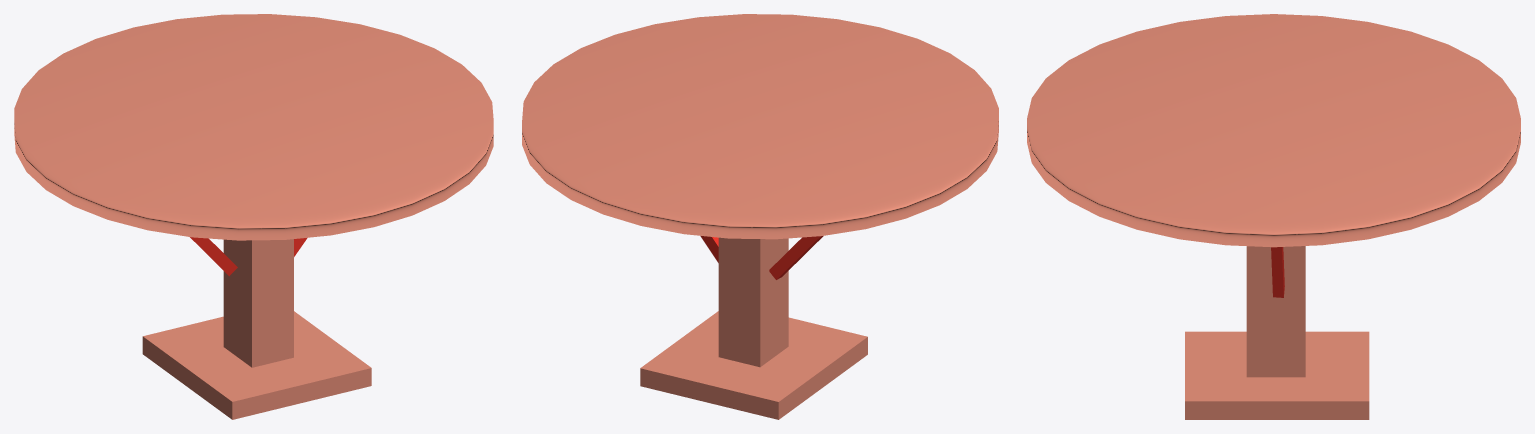
File: mesa.glb
3 renders of one model, left to right at view 1: azimuth 30°, elevation 25°; view 2: azimuth 150°, elevation 25°; view 3: azimuth 270°, elevation 25°, orthographic. The views are drawn at different scales.
Visible parts, largest first — view 1: Cilindro, Cubo.001, Cubo, Cubo.002; view 2: Cilindro, Cubo.001, Cubo, Cubo.002; view 3: Cilindro, Cubo.001, Cubo, Cubo.003.
Part boxes in pixels (x1,y1,x2,y2): Cilindro: (14,14,493,240); Cubo.001: (142,311,371,419); Cubo: (223,239,293,367); Cubo.002: (190,237,237,276); Cilindro: (522,14,998,239); Cubo.001: (640,311,867,419); Cubo: (718,237,788,367); Cubo.002: (769,236,823,279); Cilindro: (1027,14,1520,247); Cubo.001: (1185,331,1369,419); Cubo: (1246,246,1305,377); Cubo.003: (1271,247,1284,297).
Bounding box in the file's own units: 2.07 × 1.22 × 2.07.
